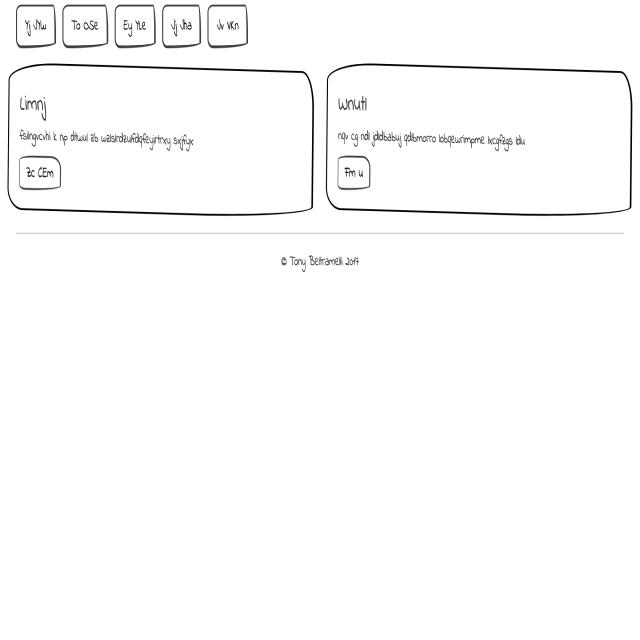Button: (16, 153, 64, 199), (328, 153, 374, 198)
Card: (323, 56, 637, 226), (5, 59, 315, 218)
Footer: (1, 233, 640, 640)
Heading 6: (328, 74, 368, 121), (12, 76, 54, 112)
Navigation Bar: (17, 3, 255, 54)
Paragraph: (328, 112, 525, 159), (16, 124, 205, 160)
